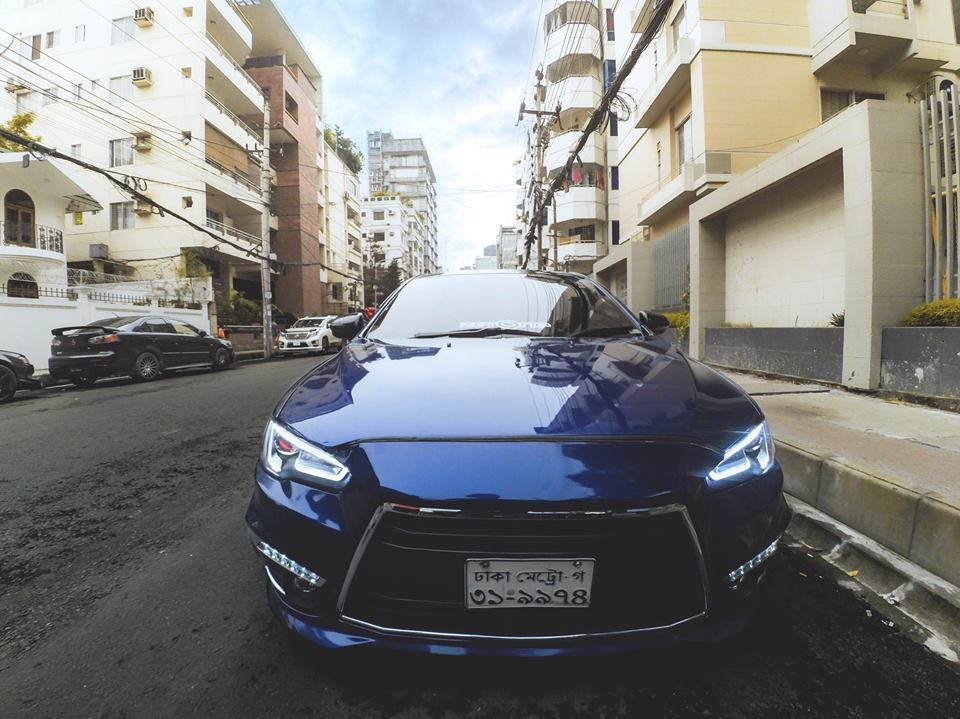registration_plate: (462, 557, 598, 611)
